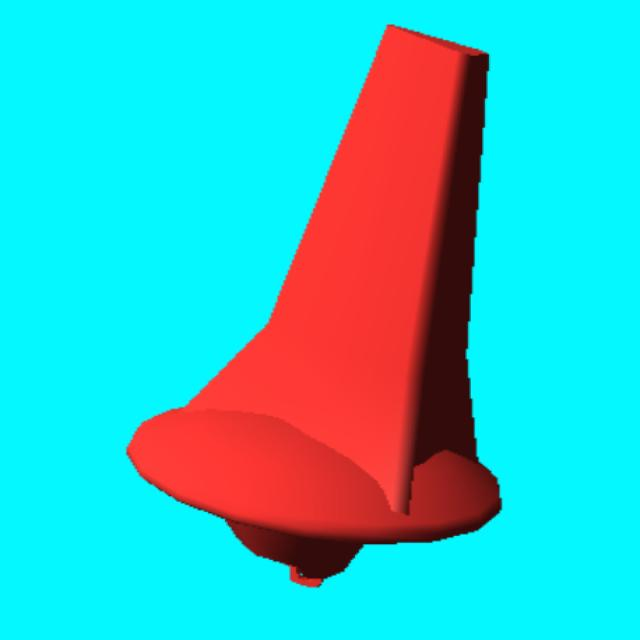RedBuoy: (128, 26, 500, 586)
